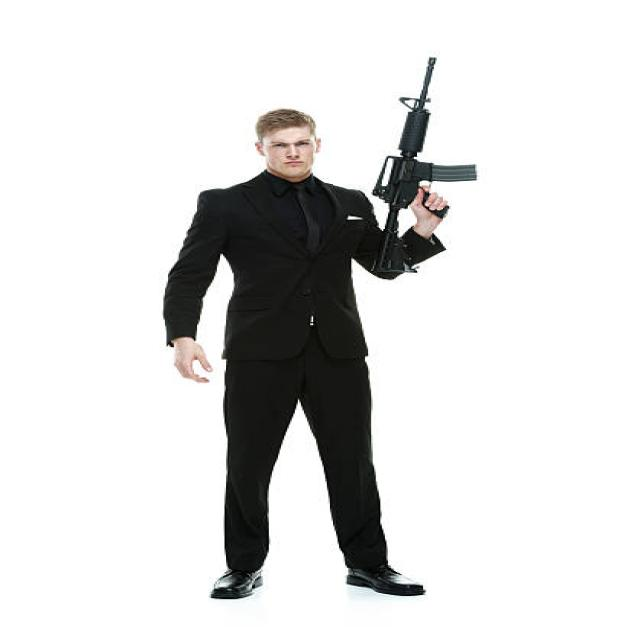Rifle: (373, 58, 478, 278)
